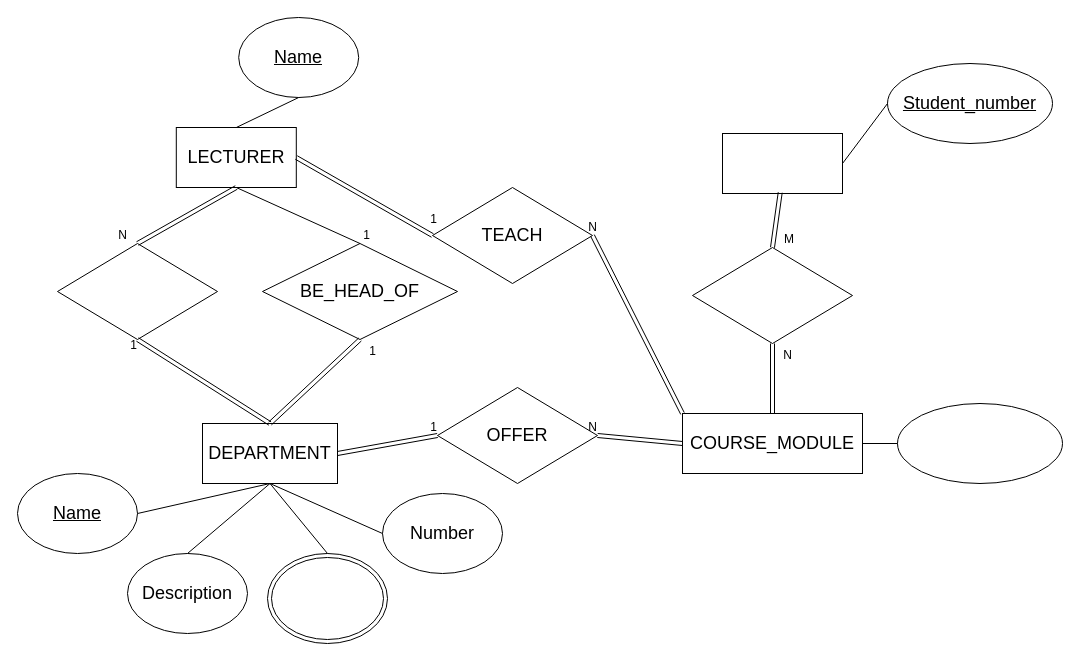
Some shapes in this 1080 by 661 pixel diagram are drawn without their labels. The centre of each missing label's shape, as x and y in pixels:
ATTEND: [772,295]
BELONG_TO: [137,291]
Location: [327,598]
Module_number: [979,443]
STUDENT: [782,163]
